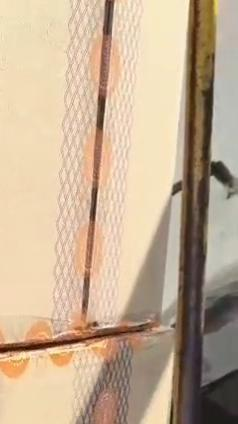box: (0, 331, 172, 423)
